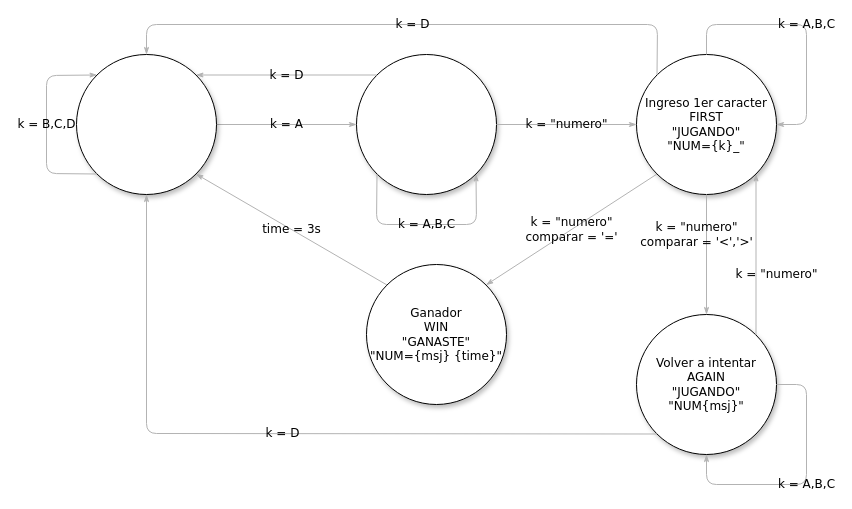
This 852x509 diagram has some shape labels left out. Here are the shapes that lost their labels. From the top down, the centre of each, then its label:
(x=147, y=126): Bienvenida START "BIENVENIDO" P/ JUGAR PULSE A
(x=427, y=126): Jugando PLAY "JUGANDO" "INGRESE NUM"
